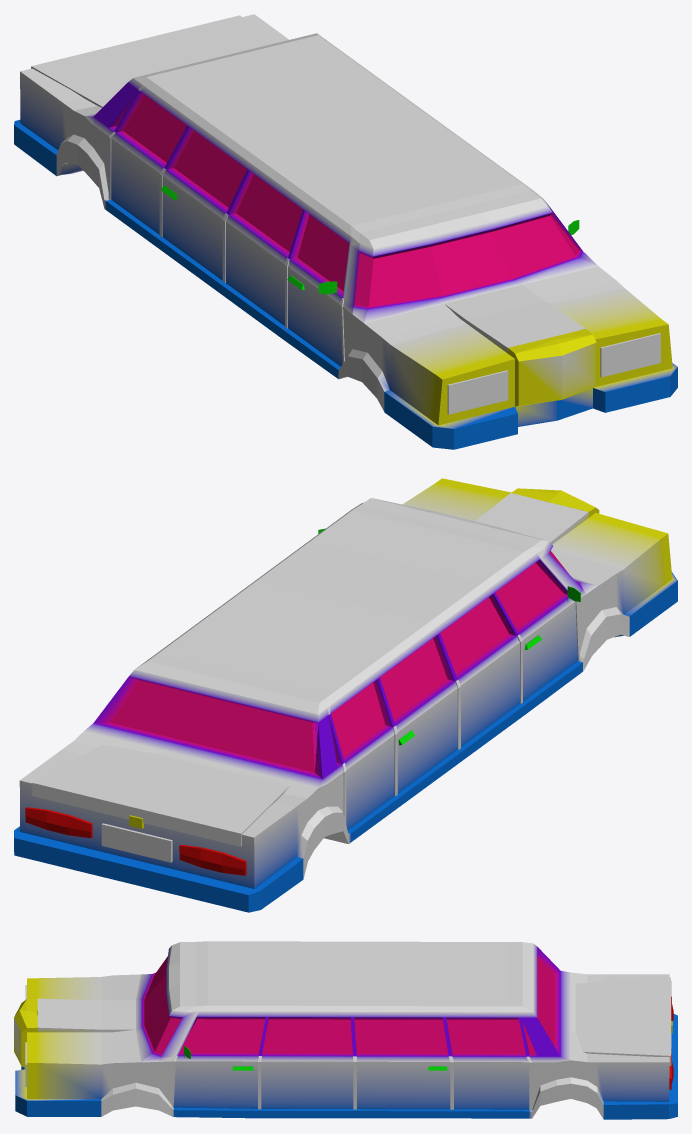
The model's file is limokropp_texture_mesh.fbx.
3 views of the same model, one above another, from view 1: azimuth 30°, elevation 25°; view 2: azimuth 150°, elevation 25°; view 3: azimuth 270°, elevation 25° (orthographic). The views are drawn at different scales.
Parts seen in each view (by area): view 1: back_lock_001; view 2: back_lock_001; view 3: back_lock_001.
Part boxes in pixels (<box>): back_lock_001: <box>14,14,677,449</box>; back_lock_001: <box>14,478,677,912</box>; back_lock_001: <box>14,941,677,1119</box>.
Size of the model in its own units: 1005 by 495 by 2878.
